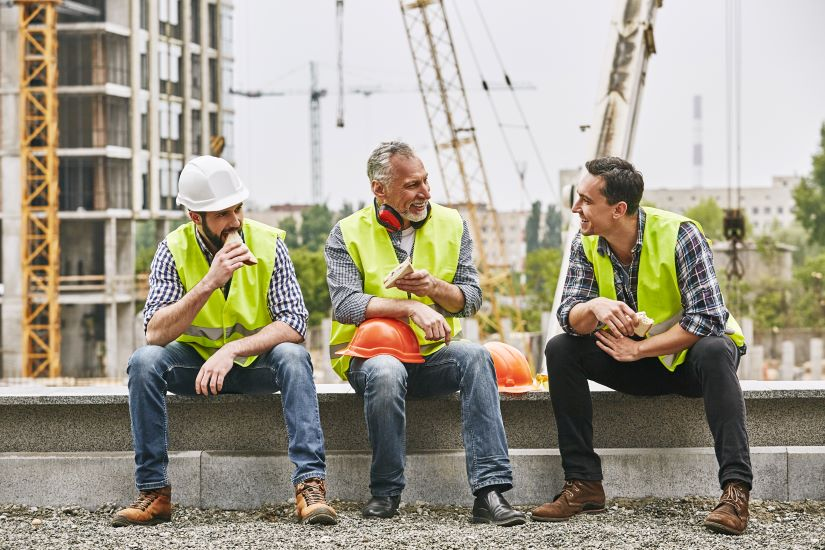No Safety Helmet: (560, 145, 652, 246), (358, 134, 437, 230)
Safety Helmet: (165, 146, 258, 250)
